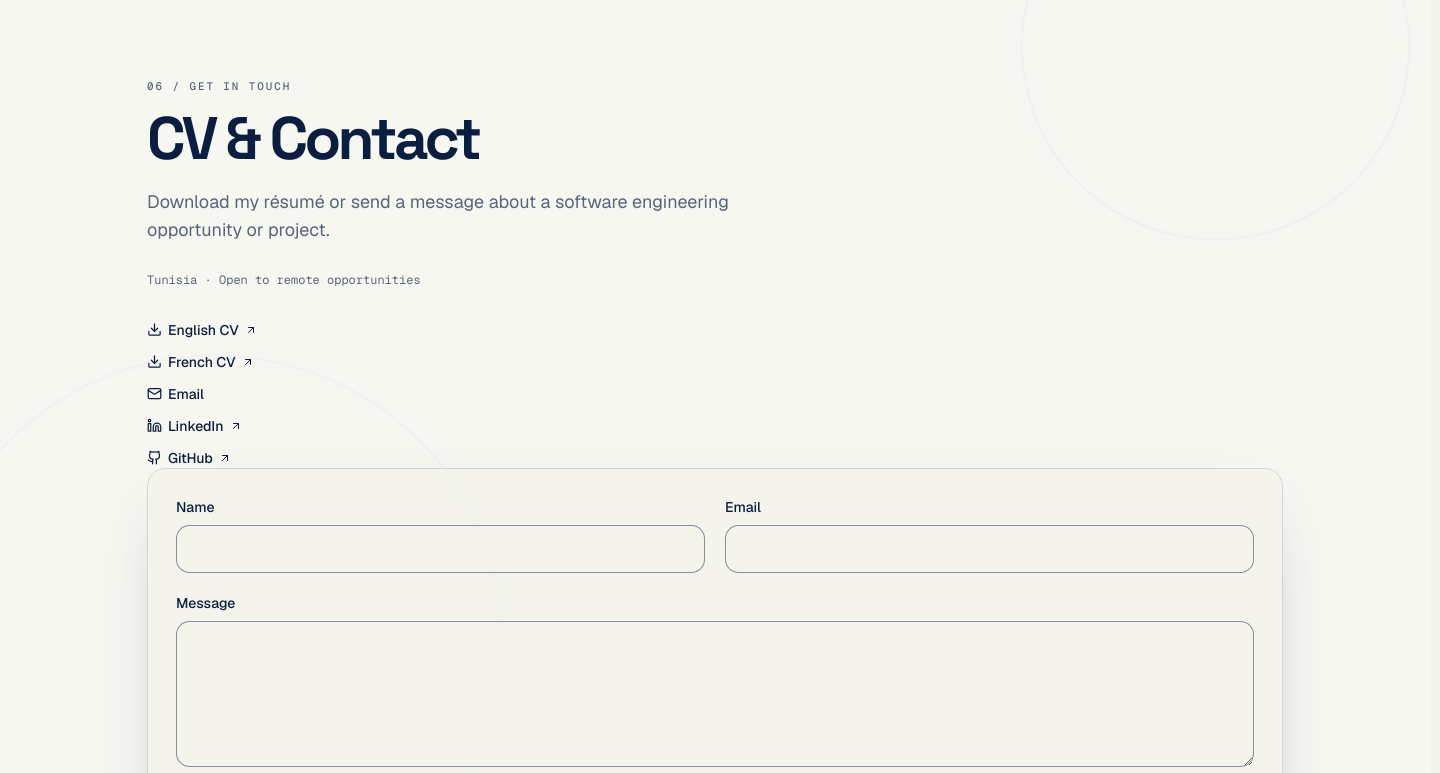
Scenario: ContactSection › preserves fields when delivery fails
In the field labelled "Name": (440, 549) [176,525,705,573], type "Synthetic Tester"
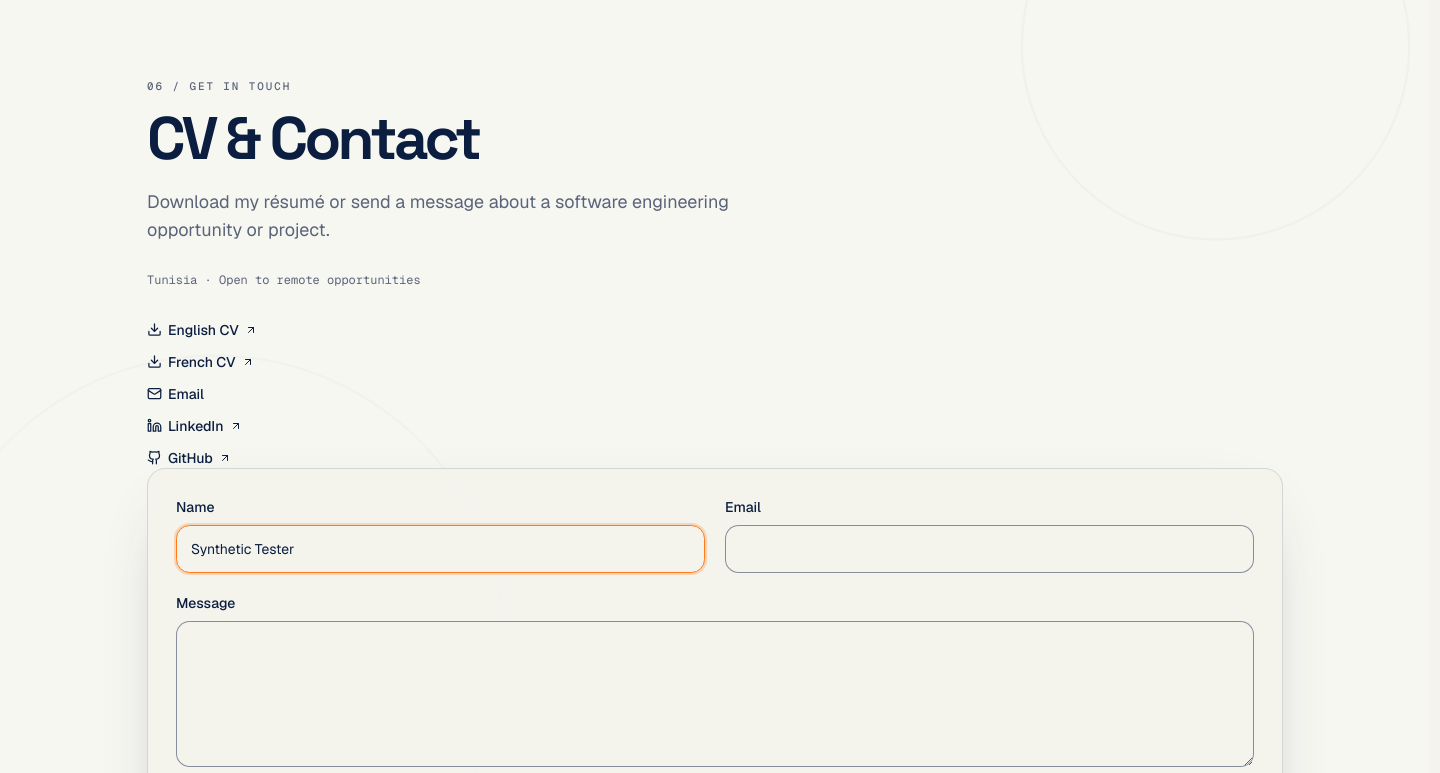
In the field labelled "Email": (990, 549) [725,525,1254,573], type "tester@example.com"
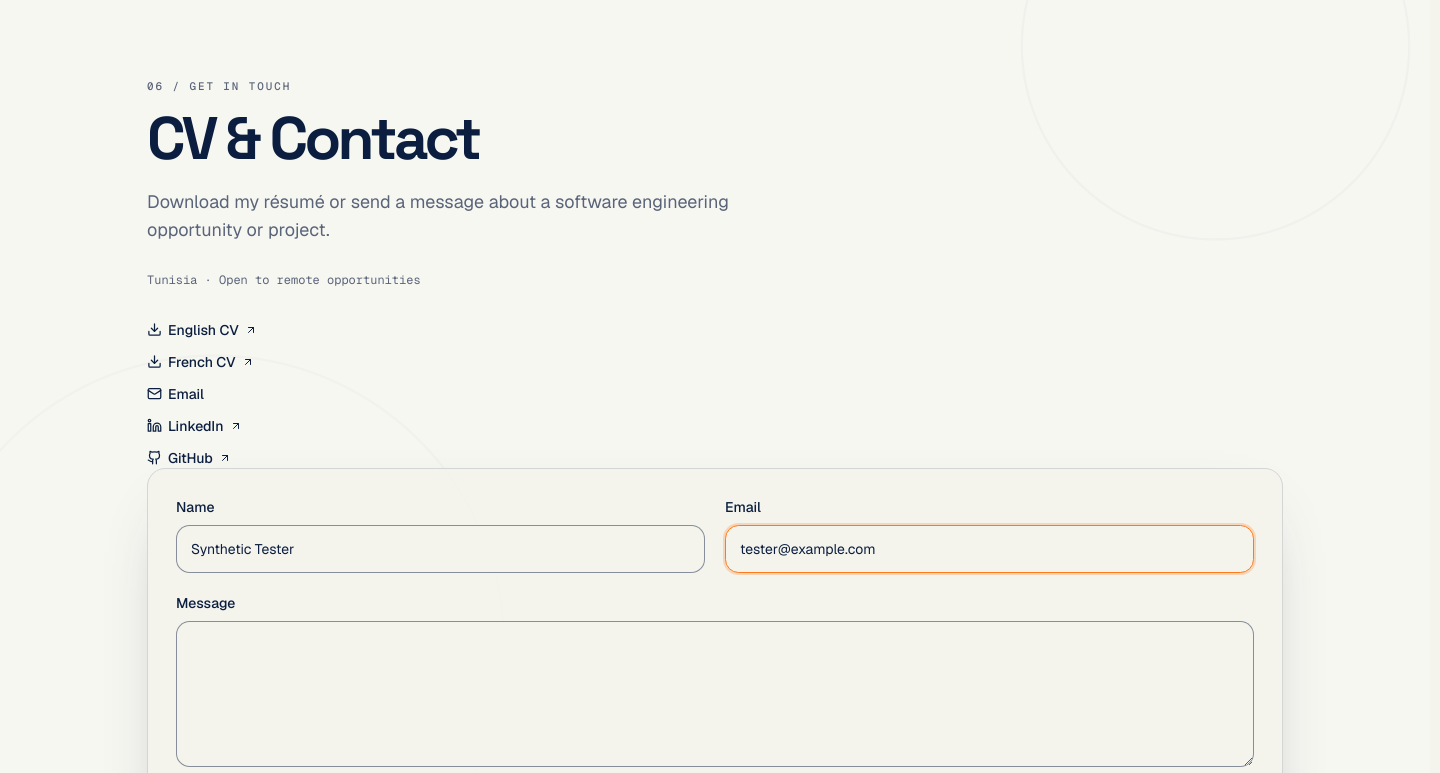
In the text box labelled "Message": (715, 694) [176,621,1254,767], type "This is a synthetic component test message."
(page scrolled)
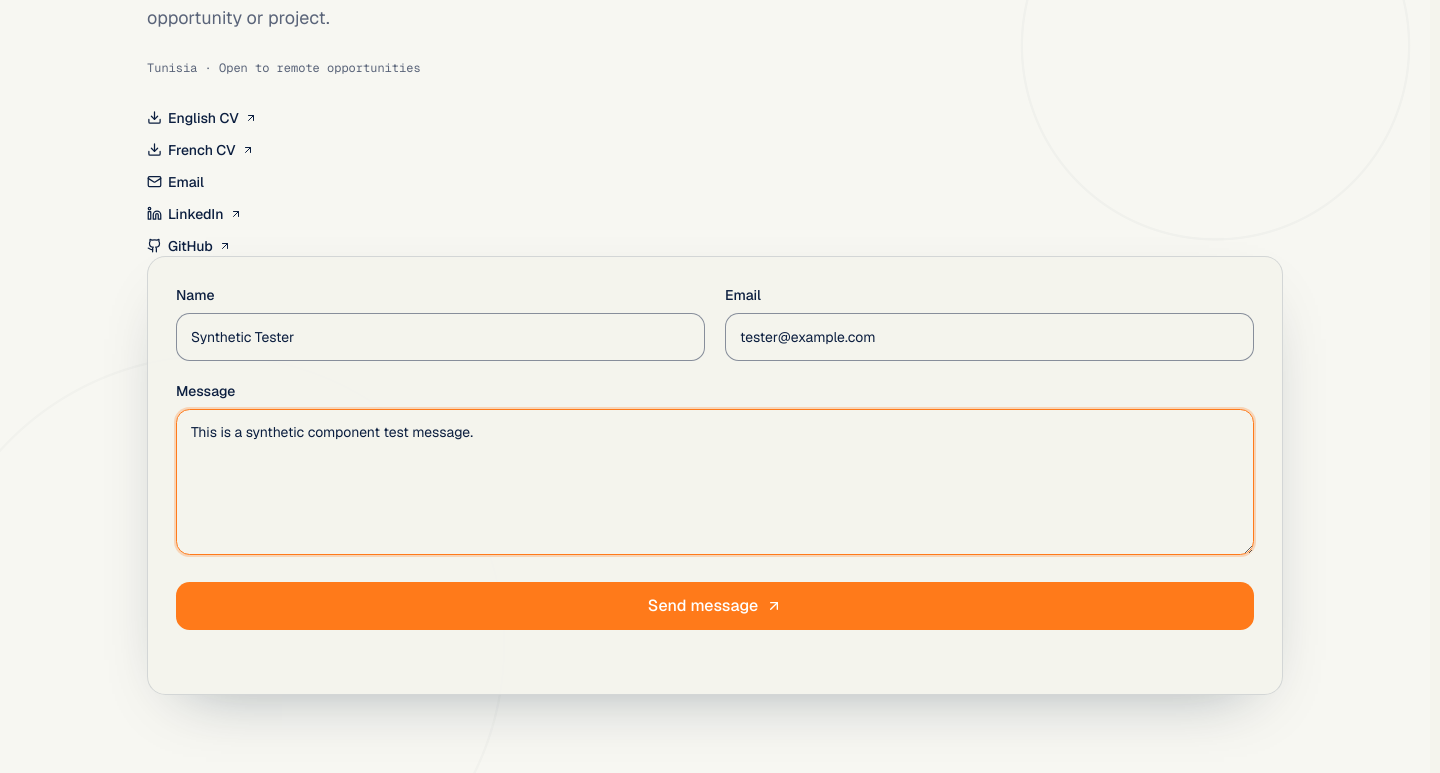
Click the button "Send message": (715, 606) [176,582,1254,630]
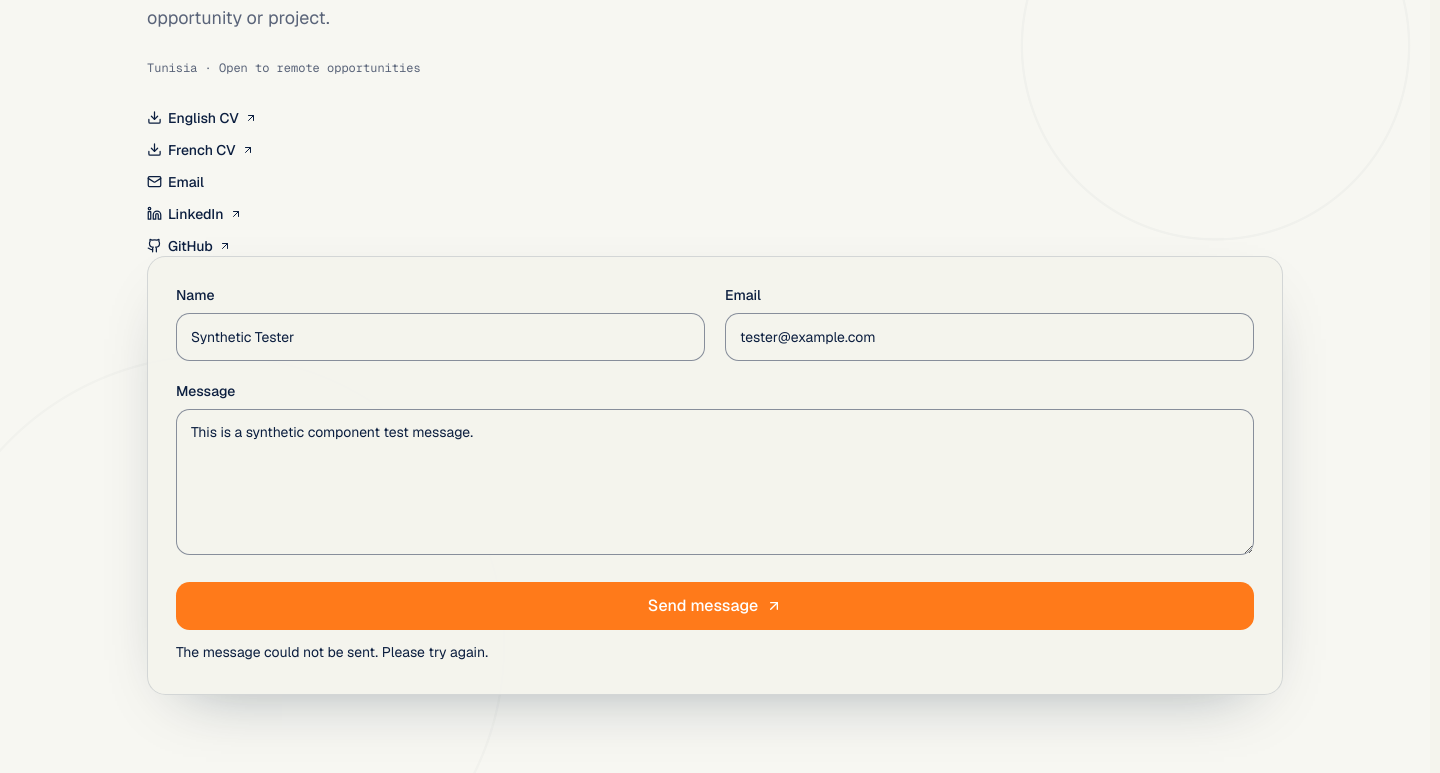
Expected: the text "The message could not be sent. Please try again." is shown, [176,643,488,661]
